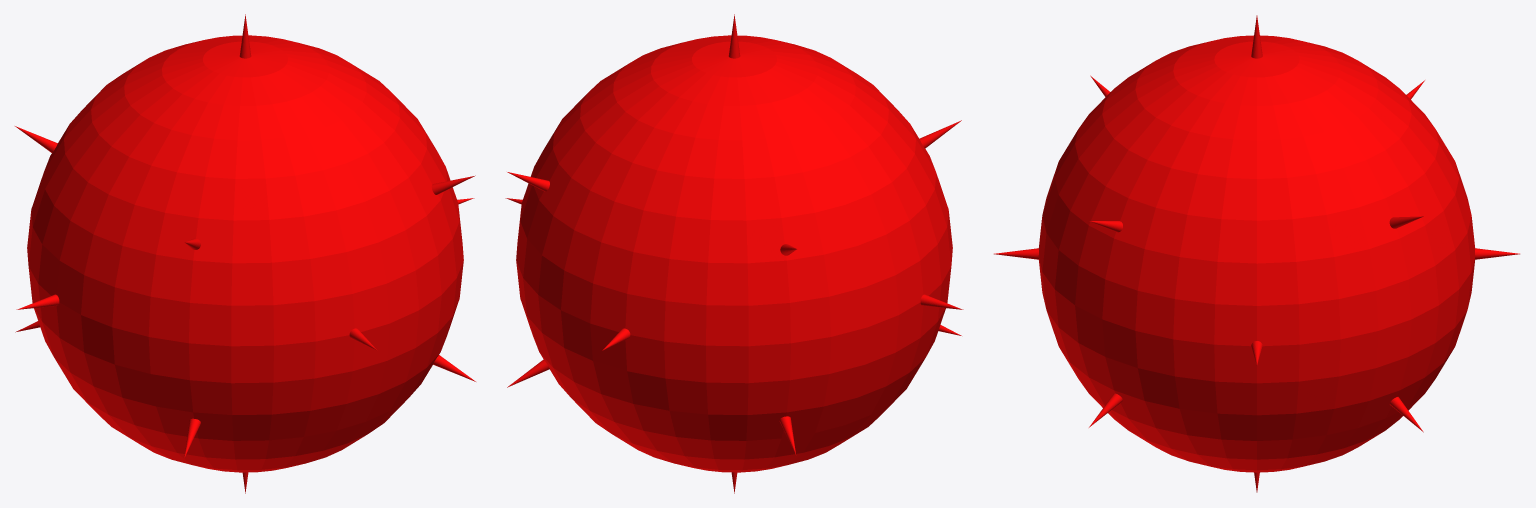
Rendered from Mine.fbx.
3 views of the same model, side by side, from view 1: azimuth 30°, elevation 25°; view 2: azimuth 150°, elevation 25°; view 3: azimuth 270°, elevation 25° (orthographic).
Parts seen in each view (by area): view 1: Sphere; view 2: Sphere; view 3: Sphere.
Boxes of the visible parts, <box> form: Sphere: <box>15,14,475,493</box>; Sphere: <box>505,14,963,493</box>; Sphere: <box>994,15,1519,492</box>.
Size of the model in its own units: 242 by 242 by 242.
